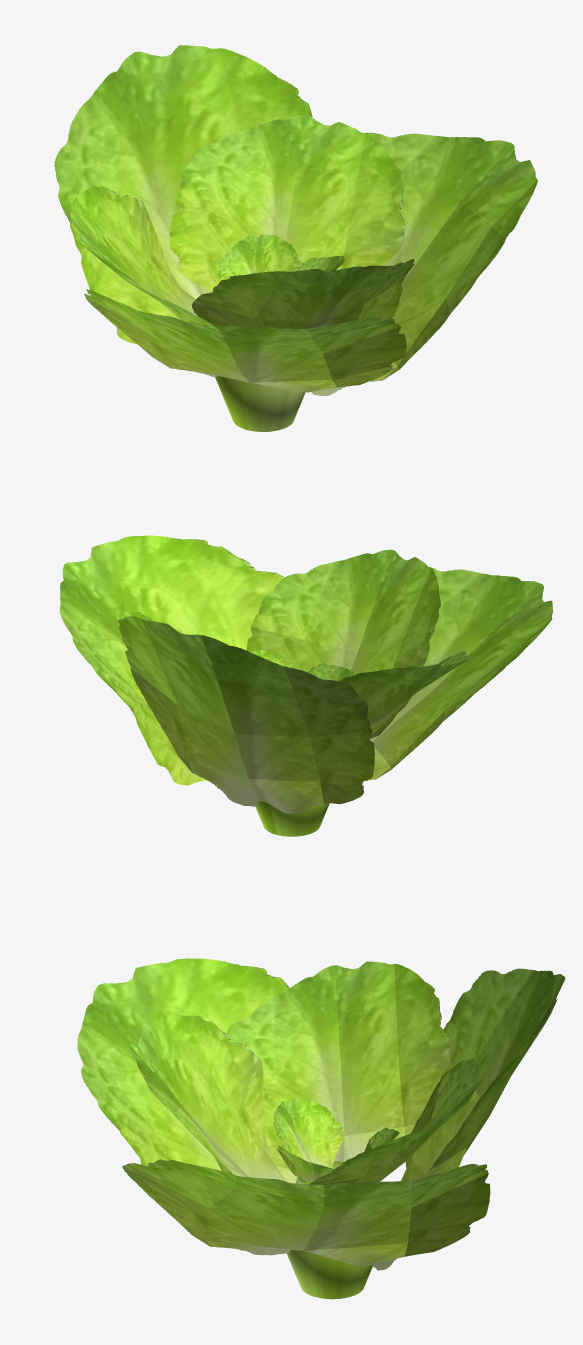
Rendered from ingredient-lettuce.glb.
3 renders of one model, top to bottom at view 1: azimuth 30°, elevation 25°; view 2: azimuth 150°, elevation 25°; view 3: azimuth 270°, elevation 25°, orthographic. The views are drawn at different scales.
Parts seen in each view (by area): view 1: Marul; view 2: Marul; view 3: Marul.
Part boxes in pixels (box(x1,y1,x2,y2)): Marul: box(54, 45, 537, 431); Marul: box(59, 535, 553, 836); Marul: box(77, 958, 565, 1299).
Size of the model in its own units: 1.25 by 0.7295 by 1.15.
Materials: 1 (1 with a texture image).
